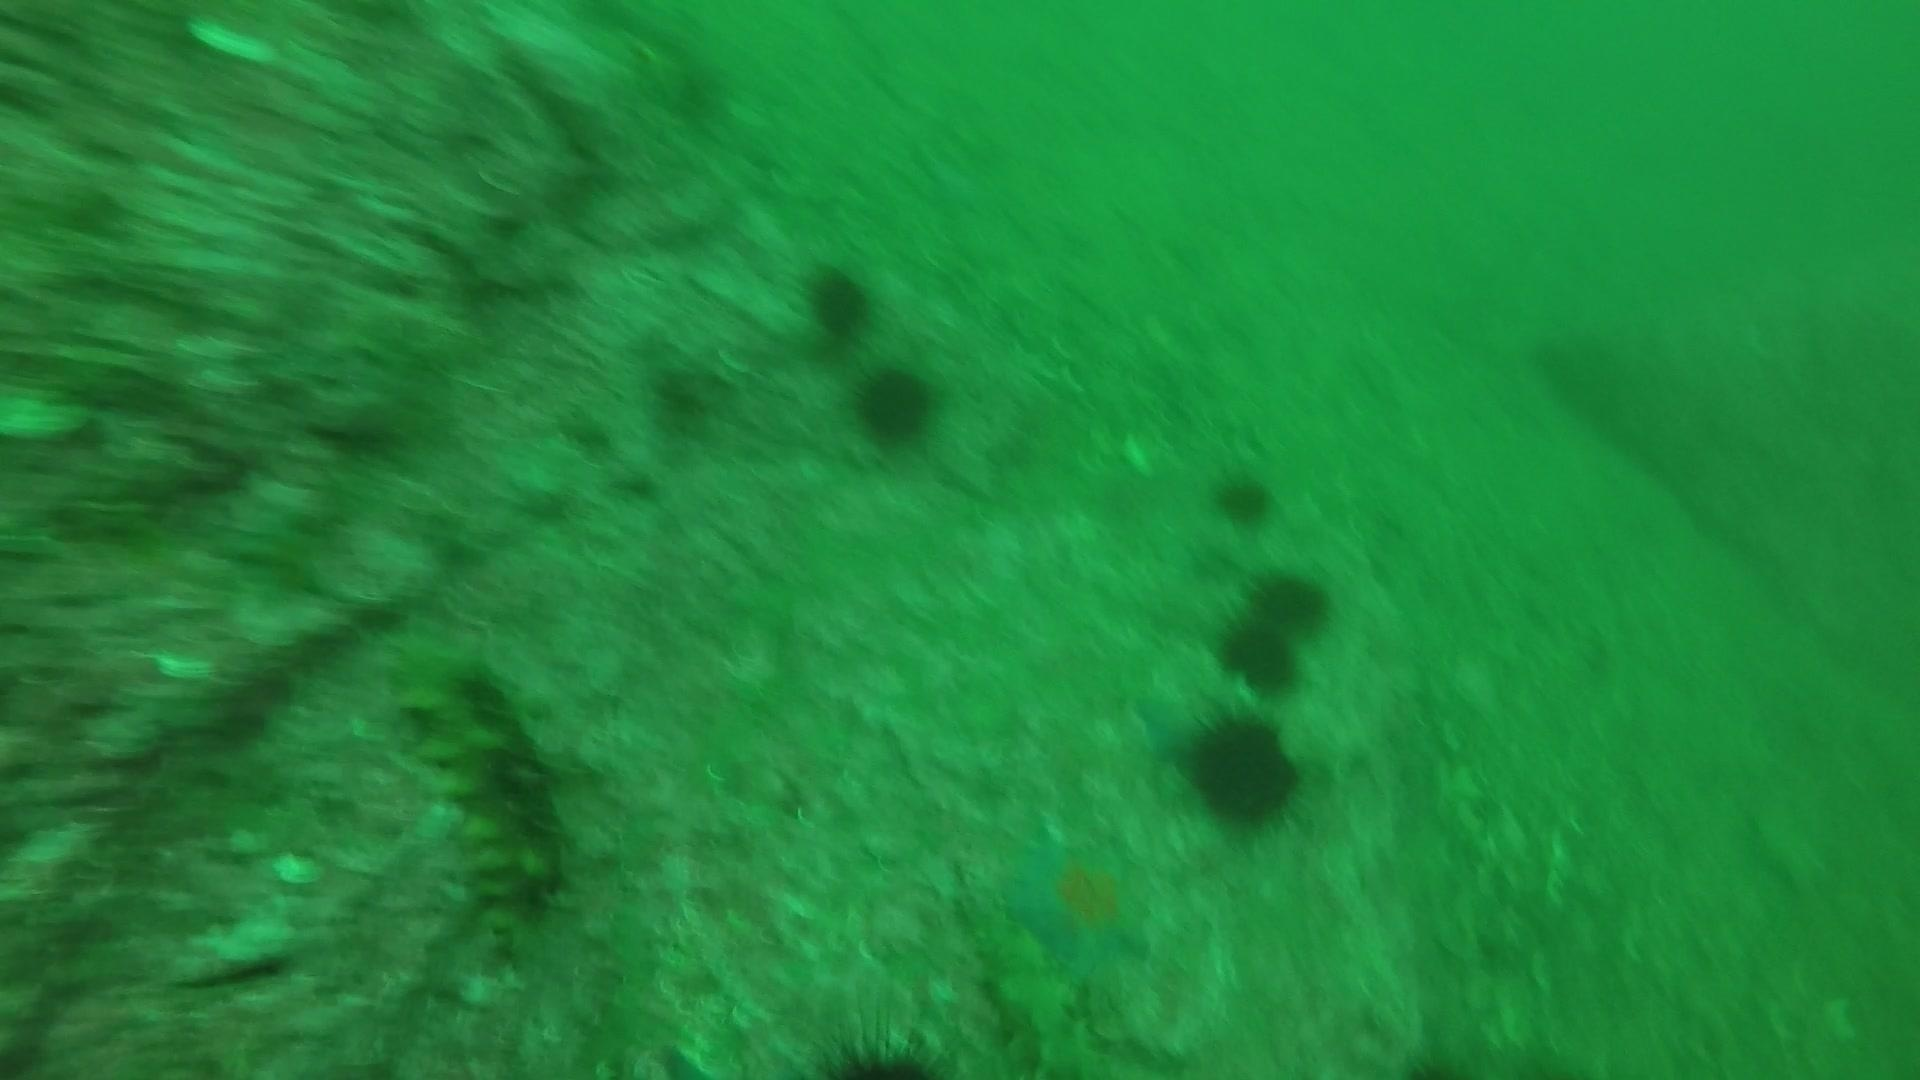echinus: (1176, 705, 1308, 833), (789, 1014, 959, 1077), (847, 359, 943, 448), (1213, 612, 1305, 698), (796, 258, 882, 345), (1240, 564, 1336, 640), (1207, 464, 1280, 530)
holothurian: (389, 642, 574, 920)
starfish: (996, 820, 1156, 981), (1127, 676, 1226, 765)
